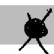not correct: (18, 6, 54, 54)
